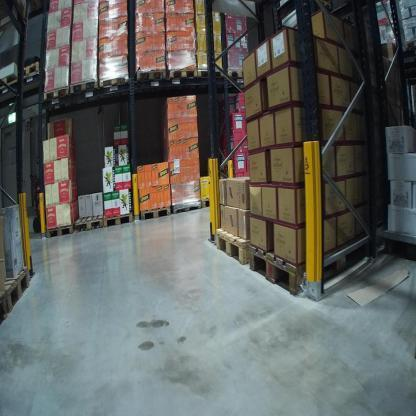pallet: (246, 243, 307, 298), (213, 227, 253, 264), (140, 203, 171, 221), (103, 212, 135, 226)
